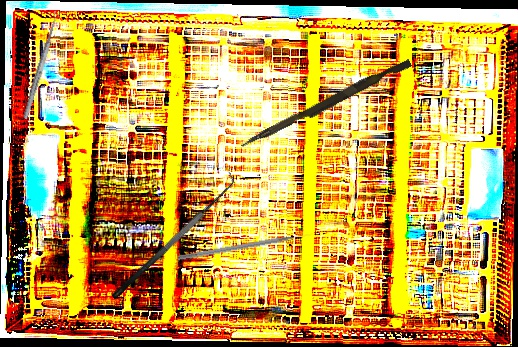Hook Surgical: (177, 231, 314, 262)
Pusher: (239, 54, 413, 155)
Spatula Surgical: (101, 170, 243, 301)
Surgical Spoon: (21, 10, 62, 120)
